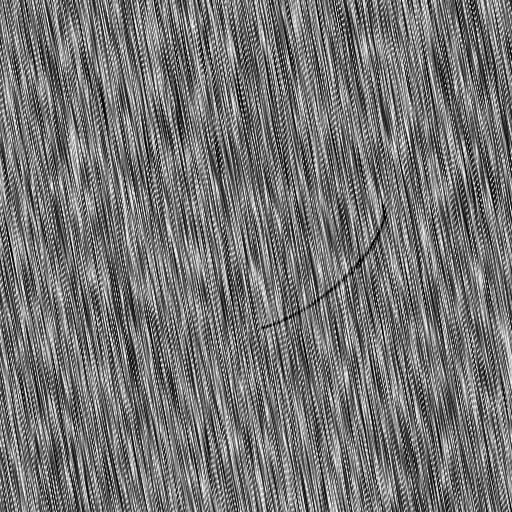DefectTypeC: (260, 205, 392, 333)
